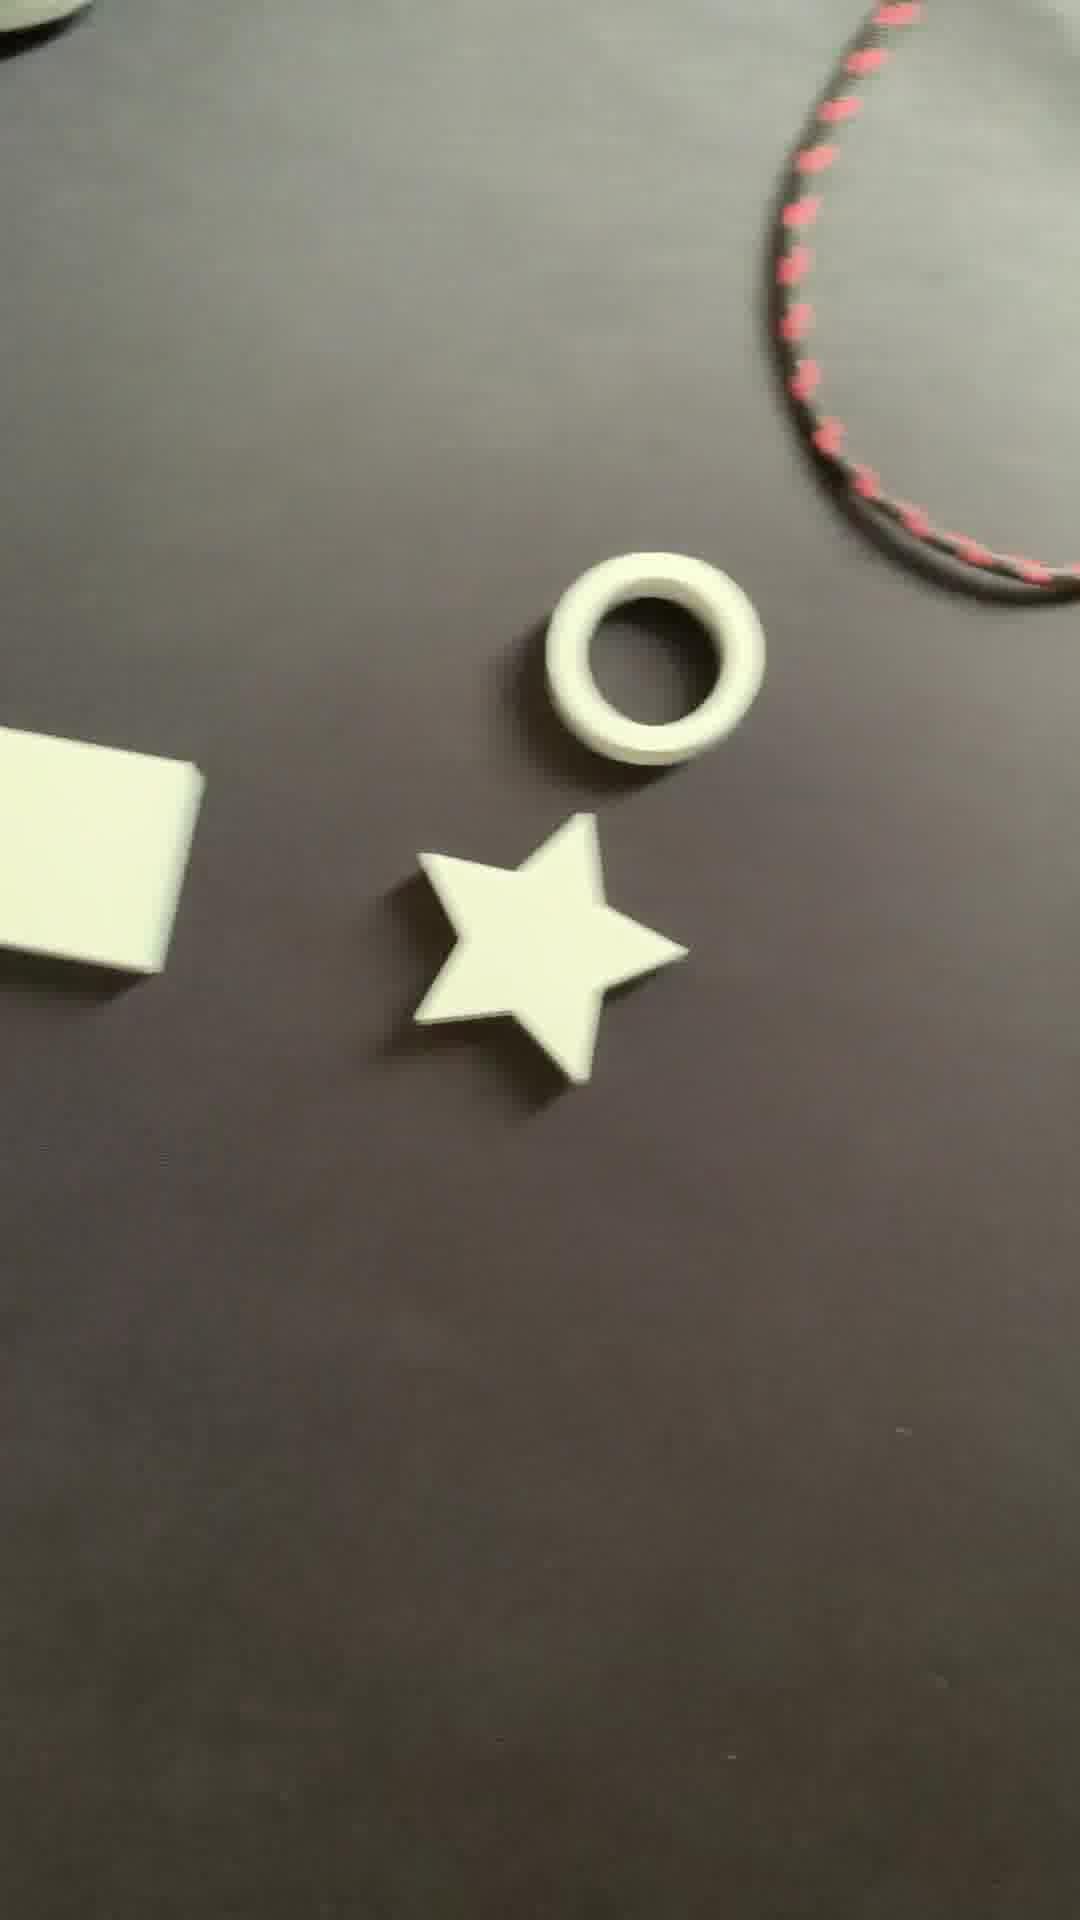Gray ring: (525, 546, 775, 777)
Gray square: (1, 713, 227, 996)
Gray star: (378, 804, 696, 1093)
